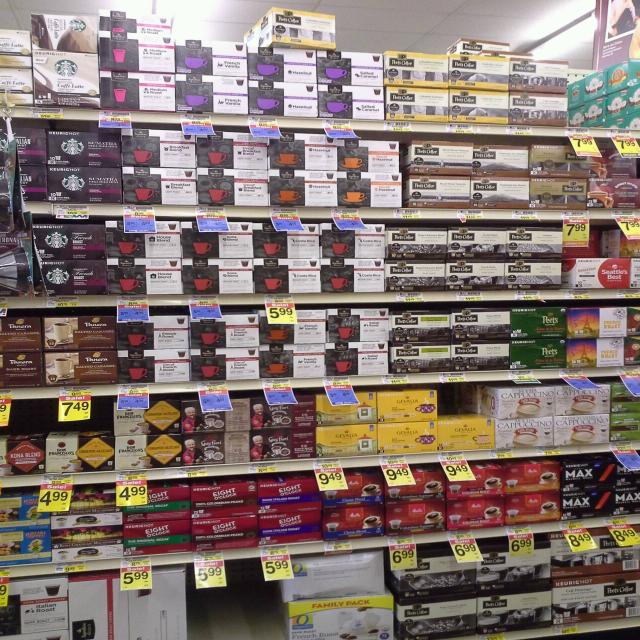void: (196, 572, 274, 639)
